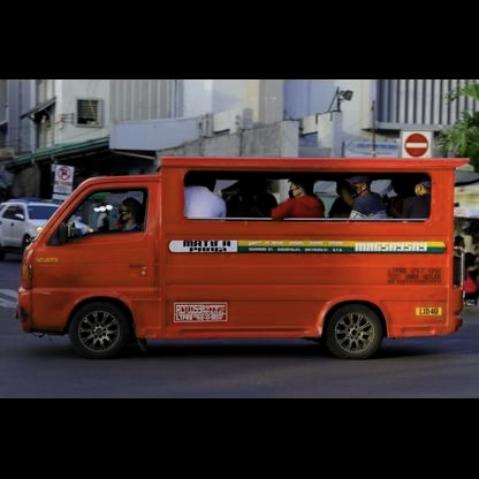jeepney: (10, 135, 467, 375)
